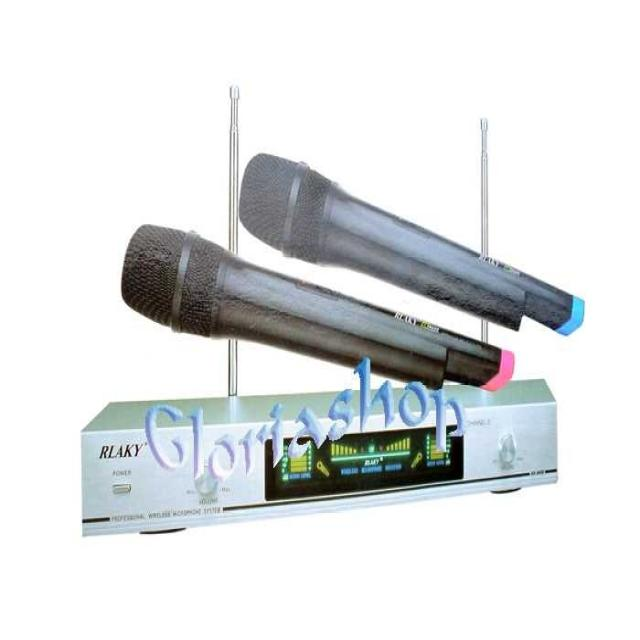microphone: (113, 215, 495, 396), (240, 148, 540, 320)
